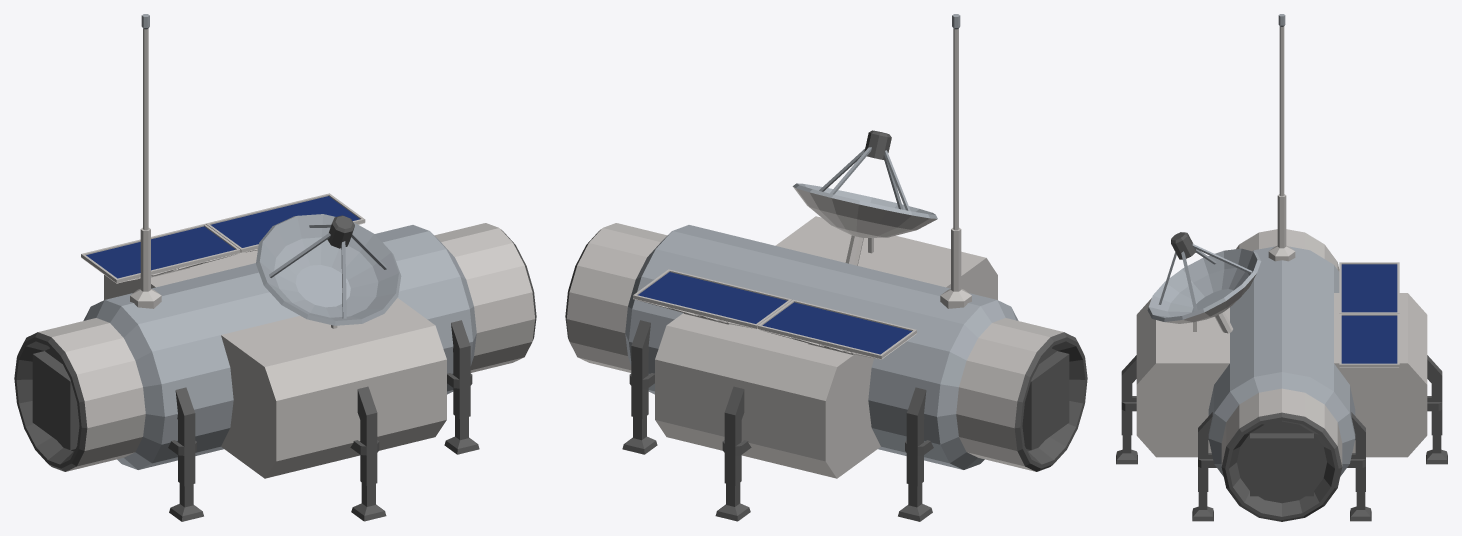
The model's file is админ (2).glb.
3 views of the same model, side by side, from view 1: azimuth 30°, elevation 25°; view 2: azimuth 150°, elevation 25°; view 3: azimuth 270°, elevation 25° (orthographic). The views are drawn at different scales.
Visible parts, largest first — view 1: Cylinder.004; view 2: Cylinder.004; view 3: Cylinder.004.
Boxes of the visible parts, x1,y1,x2,y2 form: Cylinder.004: [14, 14, 536, 521]; Cylinder.004: [565, 14, 1087, 521]; Cylinder.004: [1116, 14, 1447, 521].
Bounding box in the file's own units: 7.34 × 7.14 × 5.5.
